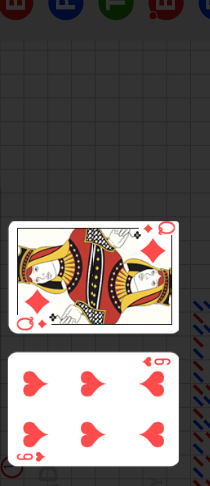6H: (15, 451, 46, 463)
QD: (132, 234, 179, 278), (12, 301, 58, 345)
